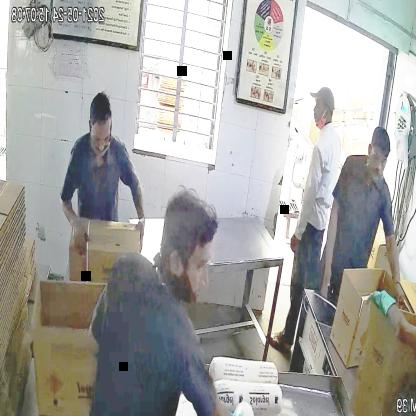goggles: (88, 124, 112, 149), (369, 146, 391, 169)
